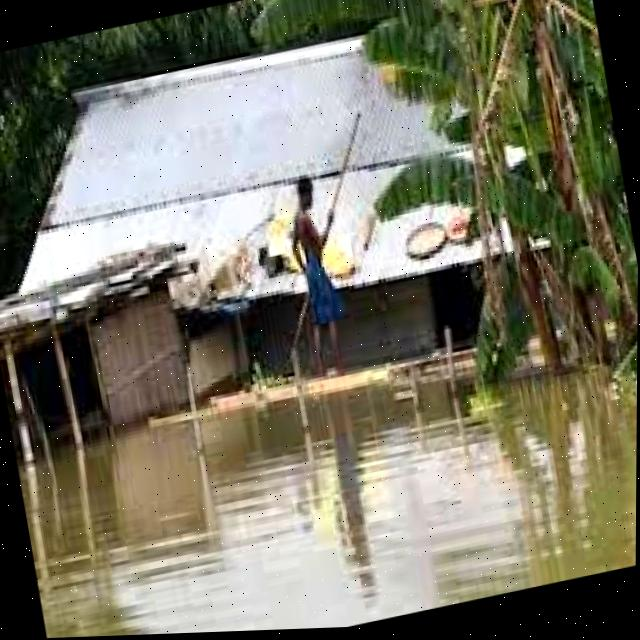civilian: (274, 163, 367, 399)
